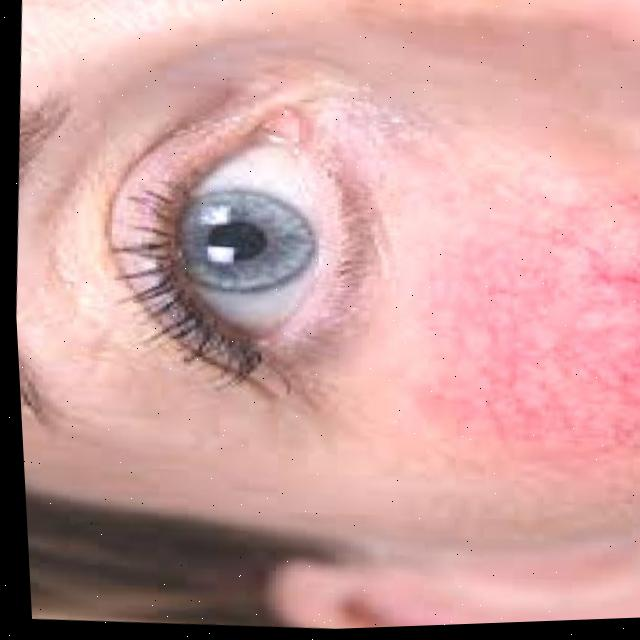Rosacea: (410, 185, 640, 497)
